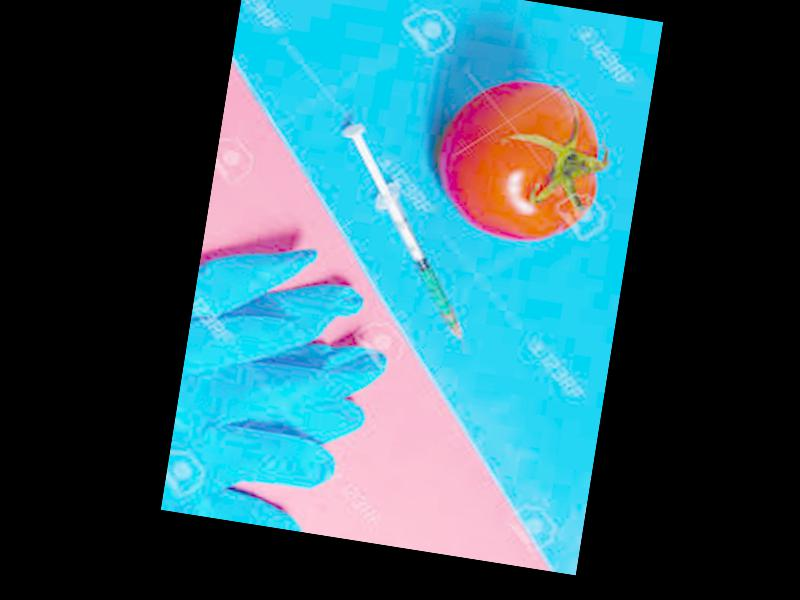Tomato: (426, 71, 609, 251)
